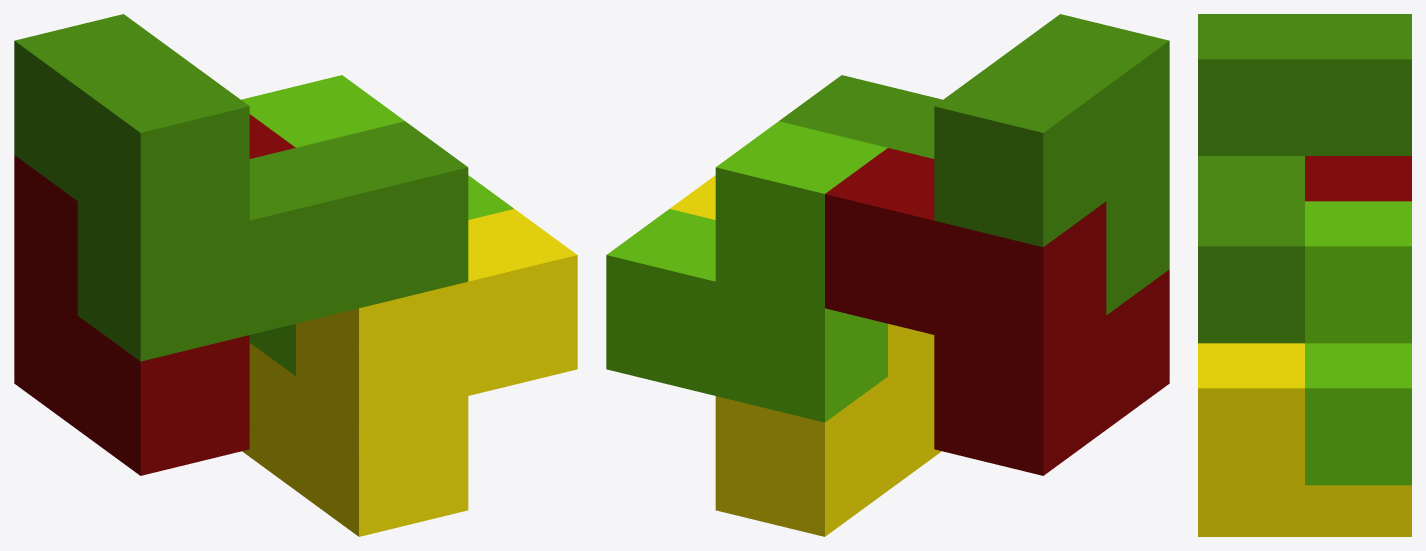
3 renders of one model, left to right at view 1: azimuth 30°, elevation 25°; view 2: azimuth 150°, elevation 25°; view 3: azimuth 270°, elevation 25°, orthographic. The views are drawn at different scales.
Parts seen in each view (by area): view 1: mergedBlocks(Clone); view 2: mergedBlocks(Clone); view 3: mergedBlocks(Clone).
Part boxes in pixels (left/top/right/bottom): mergedBlocks(Clone): left=14, top=14, right=577, bottom=536; mergedBlocks(Clone): left=606, top=14, right=1169, bottom=536; mergedBlocks(Clone): left=1198, top=14, right=1411, bottom=536.
Bounding box in the file's own units: 4 × 4 × 2.
Materials: 4 (4 with a texture image).
